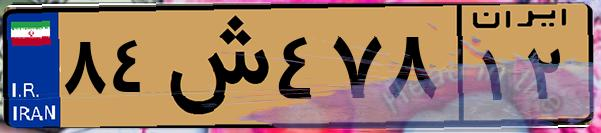1: (475, 38, 525, 113)
2: (525, 38, 570, 115)
4: (270, 28, 330, 110), (110, 28, 158, 98)
7: (330, 28, 385, 110)
8: (385, 28, 445, 110), (57, 26, 110, 100)
ش: (158, 12, 270, 120)
